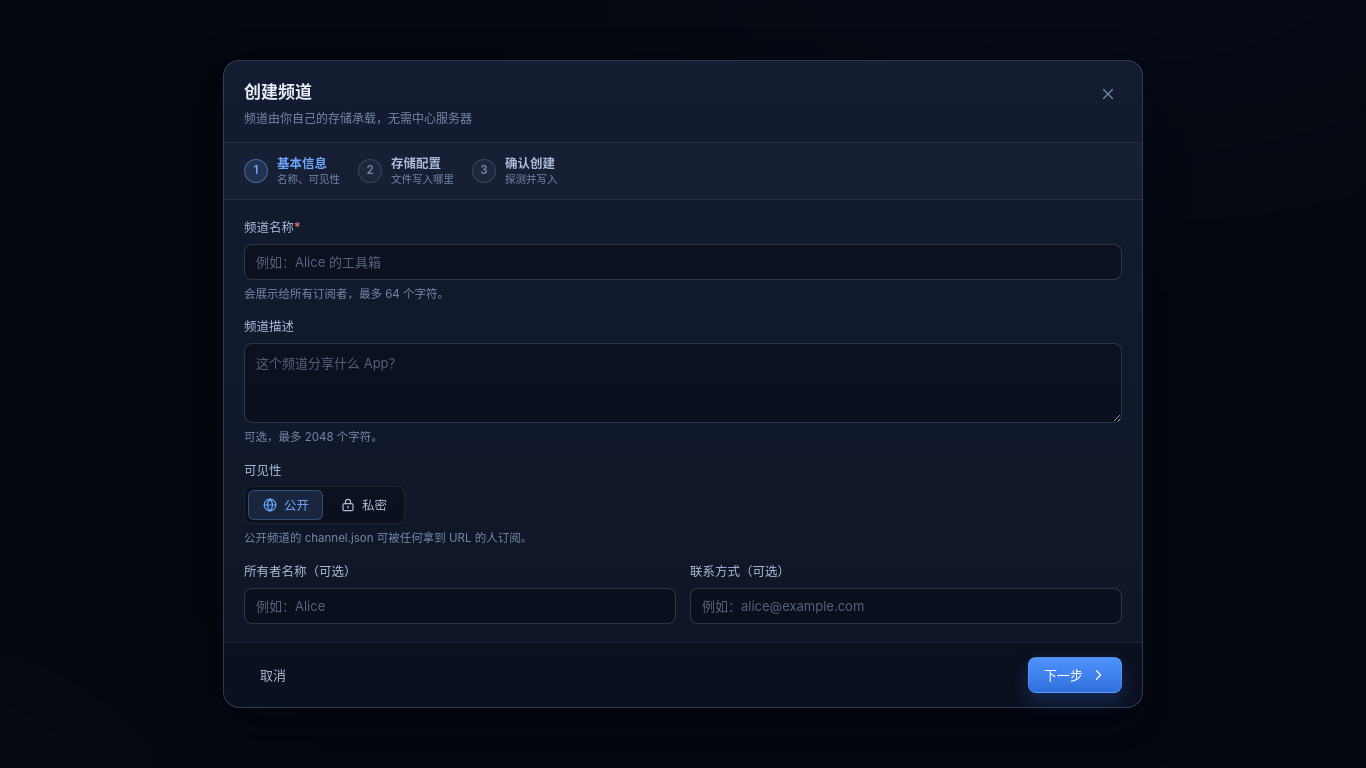
Test: 创建频道向导 › 名称为空时点击下一步被拦截，且不进入存储配置步骤
Click the button with test id "create-channel-next": [1075, 675] box [1028,657,1122,693]
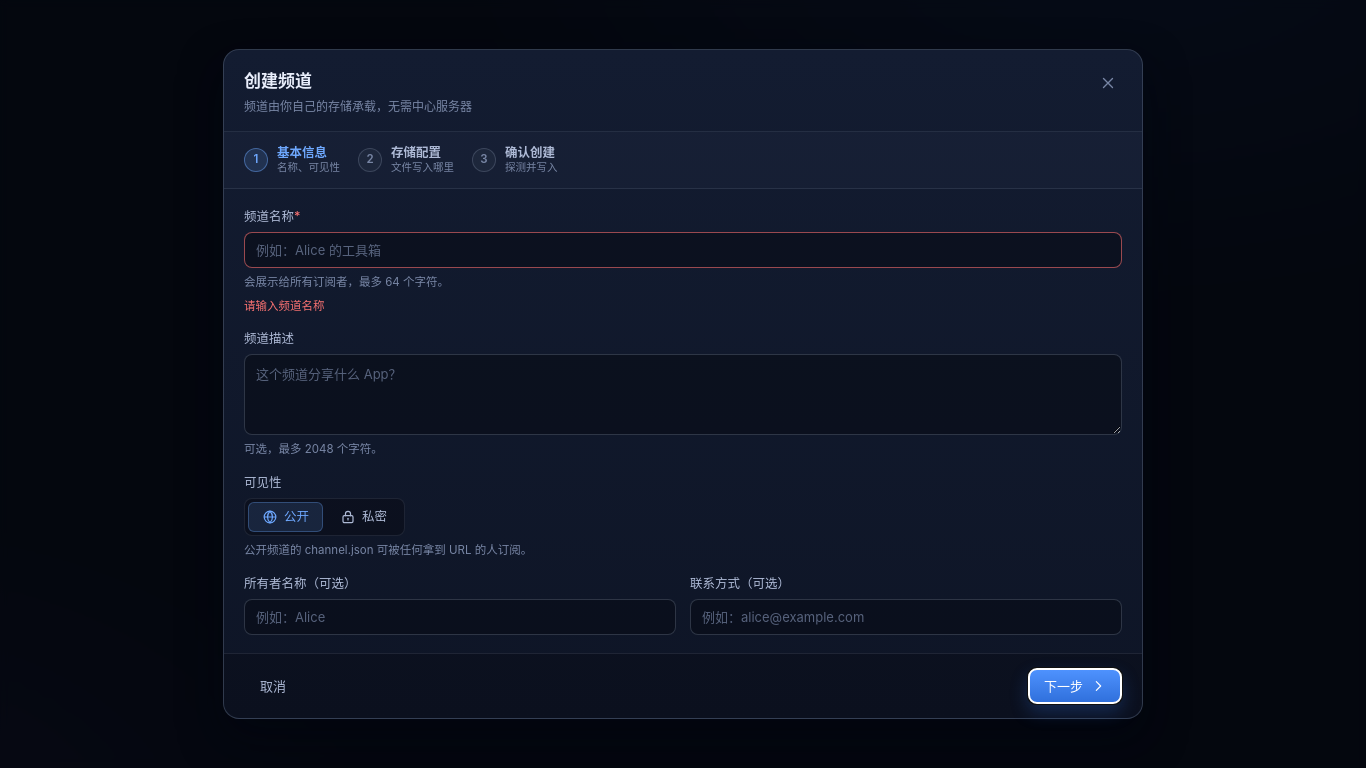
Expected: the text "请输入频道名称" is shown, [244,299,324,313]
In the field with test id "create-channel-name": [683, 250] box [244,232,1122,268], type "测试频道"
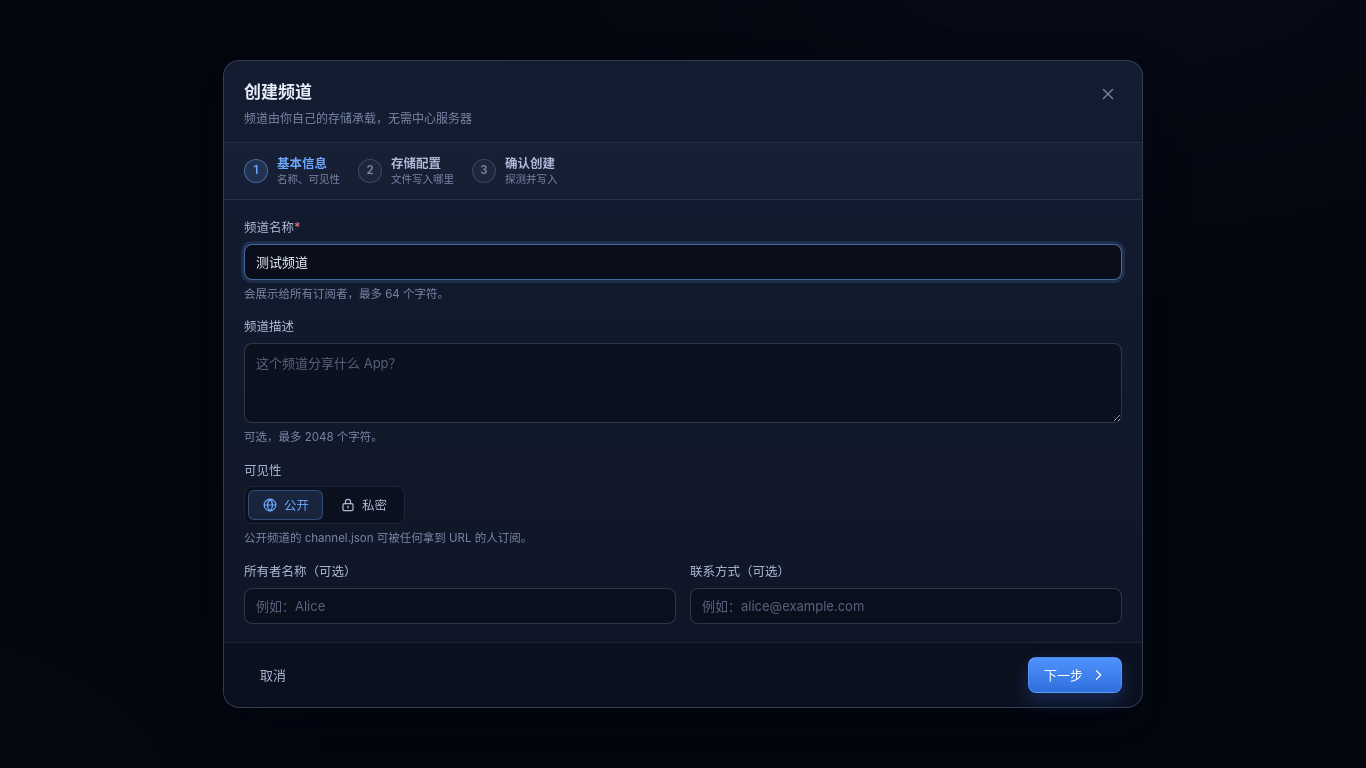
Expected: the text "请输入频道名称" is gone
